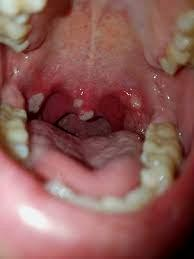Discoloration: (145, 121, 185, 160)
Ulcer: (67, 93, 102, 124), (23, 87, 47, 116), (123, 87, 149, 111)
